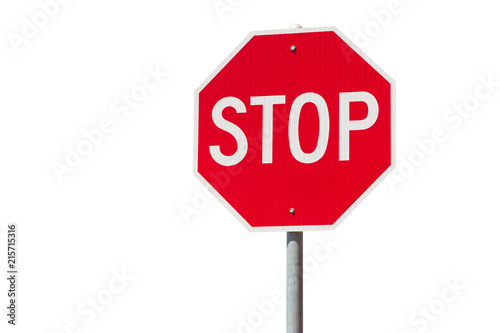StopSign: (193, 24, 396, 230)
